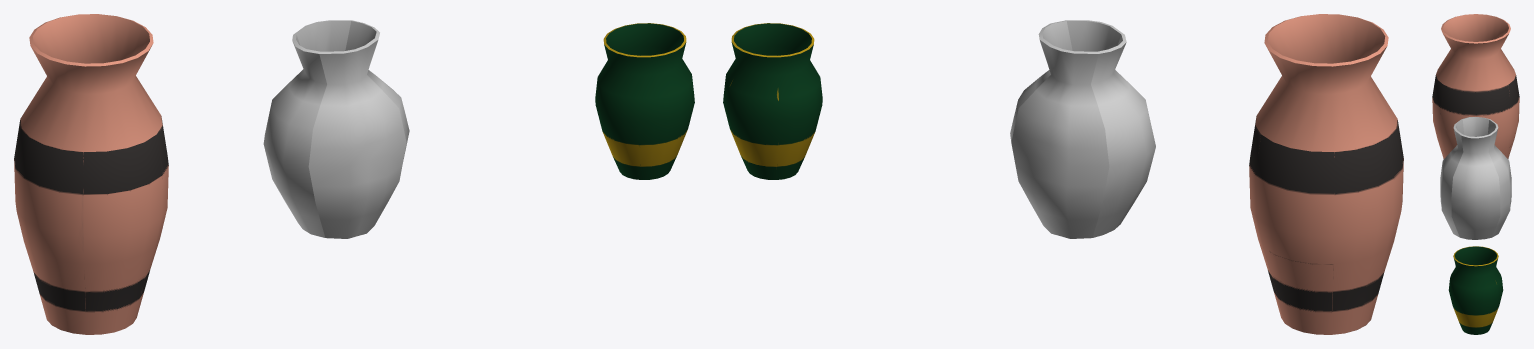
The model's file is Vases.fbx.
3 renders of one model, left to right at view 1: azimuth 30°, elevation 25°; view 2: azimuth 150°, elevation 25°; view 3: azimuth 270°, elevation 25°, orthographic. The views are drawn at different scales.
Visible parts, largest first — view 1: vase3, Vase2, Vase1; view 2: vase3, Vase2, Vase1; view 3: vase3, Vase2, Vase1.
Part boxes in pixels (<box>): vase3: <box>14,14,168,334</box>; Vase2: <box>263,20,409,238</box>; Vase1: <box>595,23,694,179</box>; vase3: <box>1249,14,1403,334</box>; Vase2: <box>1010,20,1155,238</box>; Vase1: <box>723,23,822,179</box>; vase3: <box>1432,14,1519,158</box>; Vase2: <box>1440,117,1511,239</box>; Vase1: <box>1448,246,1503,334</box>.
Size of the model in its own units: 13.01 by 5.19 by 2.64.
